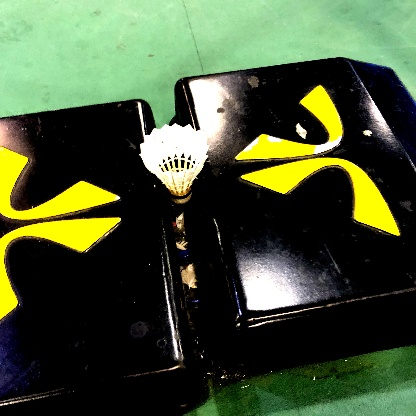ball_single: (140, 123, 210, 205)
